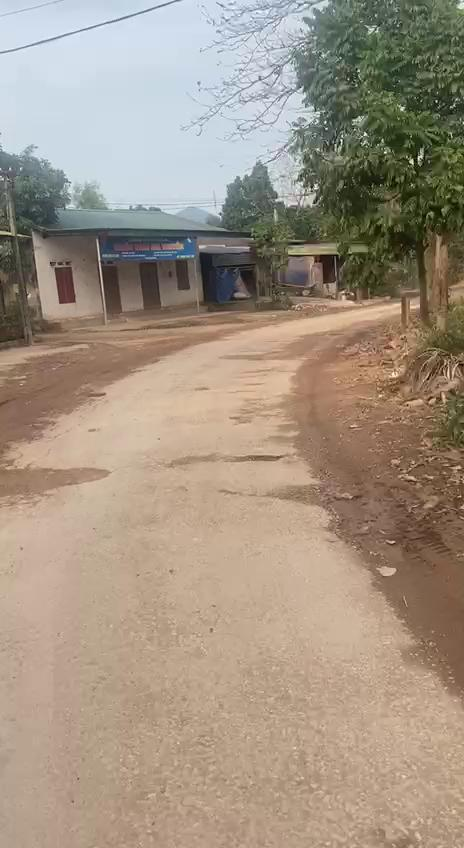pothole: (0, 462, 111, 502), (296, 481, 364, 545), (162, 451, 288, 471)
